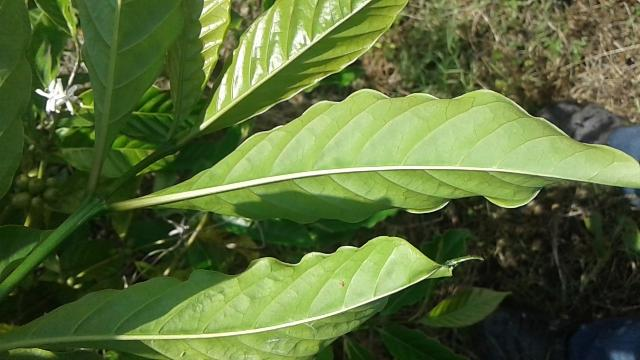healthy: (140, 83, 640, 226)
